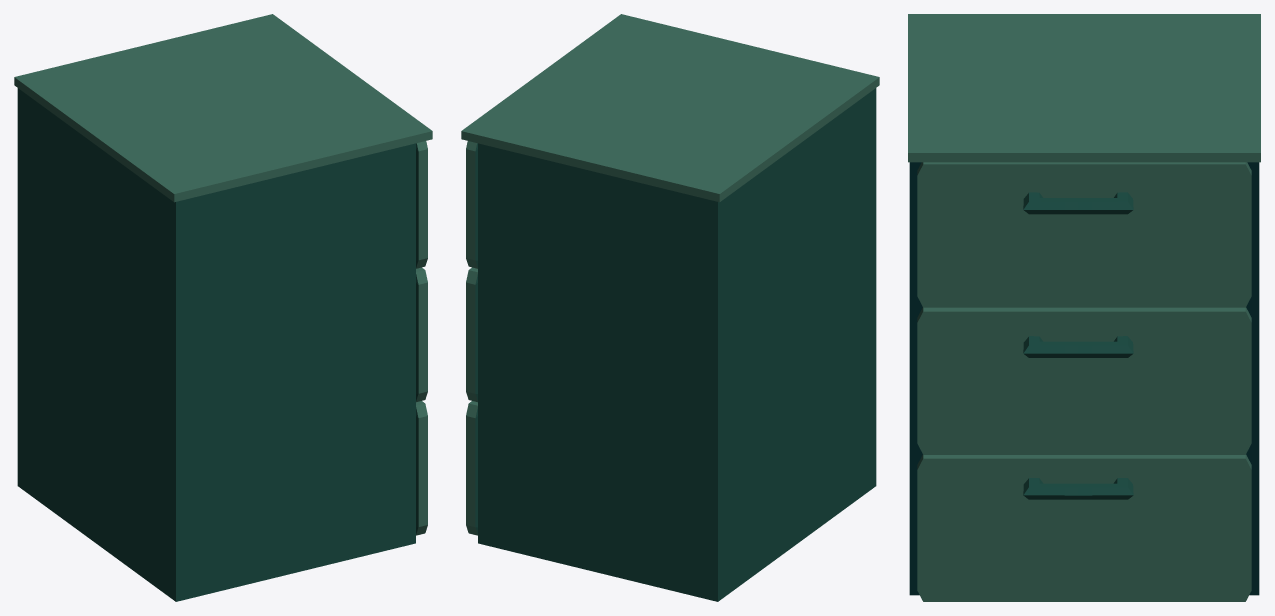
File: drawers.fbx
3 views of the same model, side by side, from view 1: azimuth 30°, elevation 25°; view 2: azimuth 150°, elevation 25°; view 3: azimuth 270°, elevation 25° (orthographic). The views are drawn at different scales.
Visible parts, largest first — view 1: cabinet_geo; view 2: cabinet_geo; view 3: cabinet_geo, handle_01_geo, handle_03_geo, handle_02_geo.
Boxes of the visible parts, x1,y1,x2,y2 form: cabinet_geo: (14,14,432,601); cabinet_geo: (461,14,879,601); cabinet_geo: (908,14,1260,601); handle_01_geo: (1023,192,1133,214); handle_03_geo: (1023,478,1133,499); handle_02_geo: (1023,336,1133,357).
Bounding box in the file's own units: 202 × 283 × 201.
